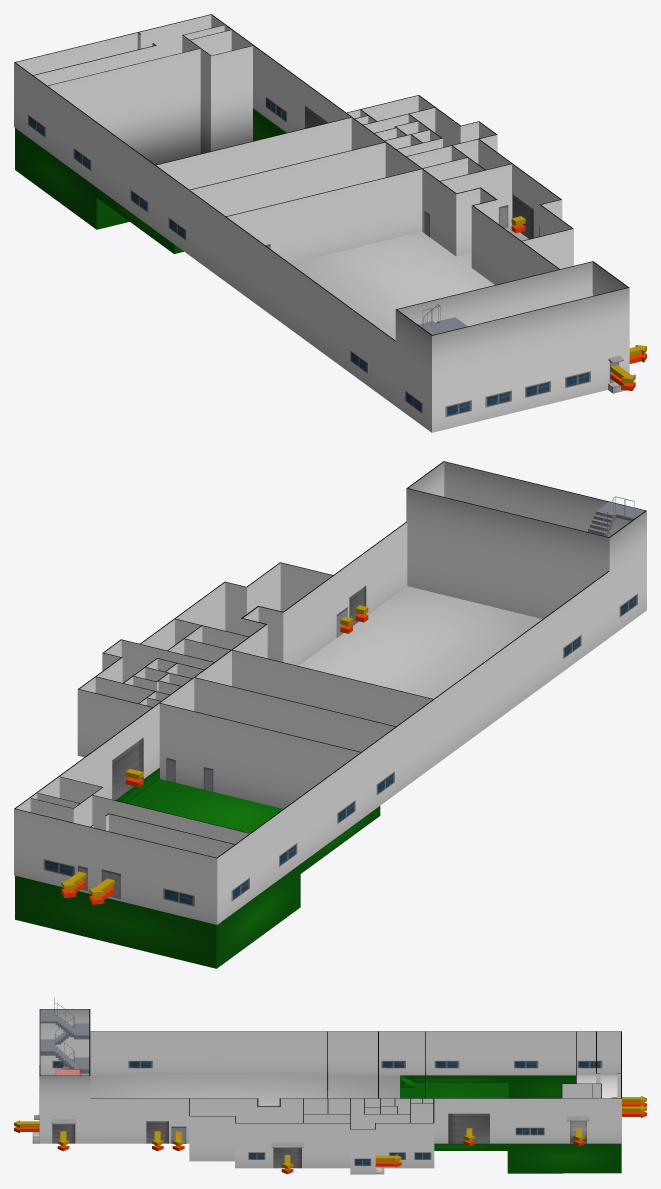
Rendered from soulbrain_UP-4-1F.glb.
3 views of the same model, one above another, from view 1: azimuth 30°, elevation 25°; view 2: azimuth 150°, elevation 25°; view 3: azimuth 270°, elevation 25° (orthographic). The views are drawn at different scales.
Parts seen in each view (by area): view 1: Line044, UP-4-1F; view 2: Line044, UP-4-1F; view 3: Line044, UP-4-1F, Box111.
Boxes of the visible parts, x1,y1,x2,y2 form: Line044: (14,14,629,432); UP-4-1F: (28,96,629,417); Line044: (14,461,646,968); UP-4-1F: (43,496,644,906); Line044: (32,1009,621,1174); UP-4-1F: (34,998,620,1168); Box111: (40,1031,89,1075).
Size of the model in its own units: 29.49 by 14.59 by 76.43.
20 materials, 15 textured.
